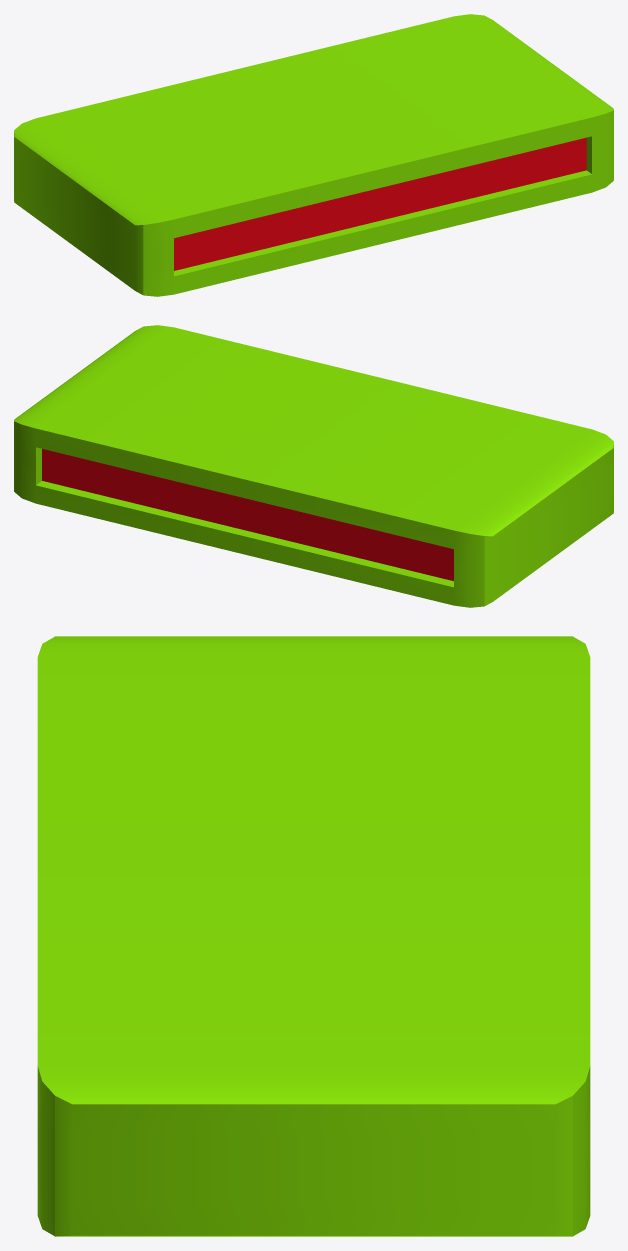
Rendered from Platform.fbx.
3 views of the same model, one above another, from view 1: azimuth 30°, elevation 25°; view 2: azimuth 150°, elevation 25°; view 3: azimuth 270°, elevation 25° (orthographic). The views are drawn at different scales.
Parts seen in each view (by area): view 1: Cube.001; view 2: Cube.001; view 3: Cube.001.
Boxes of the visible parts, x1,y1,x2,y2 form: Cube.001: (14,14,613,296); Cube.001: (14,325,613,607); Cube.001: (37,636,590,1236).
Bounding box in the file's own units: 4 × 0.6 × 2.
